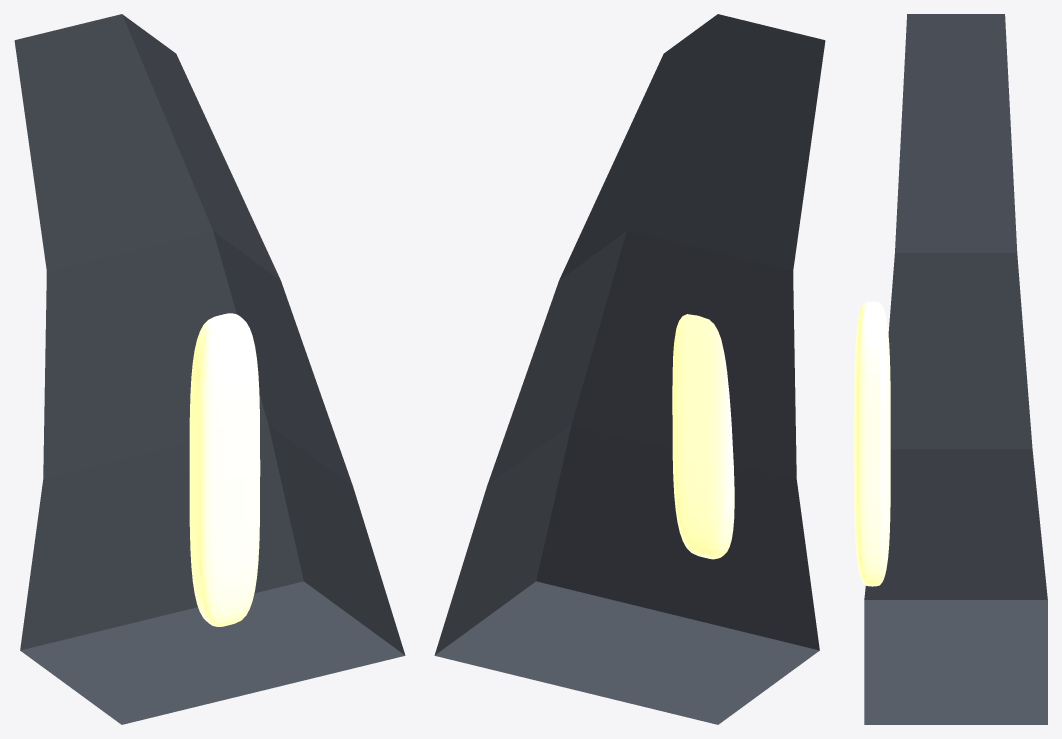
File: ear_left.glb
3 views of the same model, side by side, from view 1: azimuth 30°, elevation 25°; view 2: azimuth 150°, elevation 25°; view 3: azimuth 270°, elevation 25° (orthographic). The views are drawn at different scales.
Parts seen in each view (by area): view 1: ear_left_outer, ear_left_glow; view 2: ear_left_outer, ear_left_glow; view 3: ear_left_outer, ear_left_glow.
Boxes of the visible parts, x1,y1,x2,y2 form: ear_left_outer: (14,14,405,724); ear_left_glow: (189,313,260,626); ear_left_outer: (434,14,825,724); ear_left_glow: (672,314,734,559); ear_left_outer: (864,14,1047,724); ear_left_glow: (854,301,890,586).
Bounding box in the file's own units: 32 × 62 × 19.
